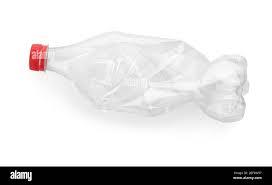plastic: (34, 30, 246, 121)
